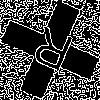R: (25, 25, 77, 82)
